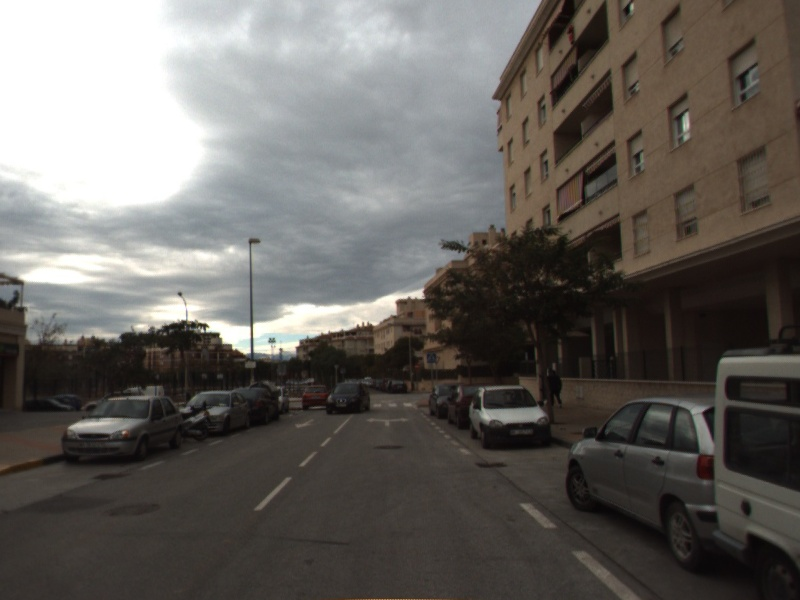LEFT_RIGHT: (364, 415, 411, 428)
